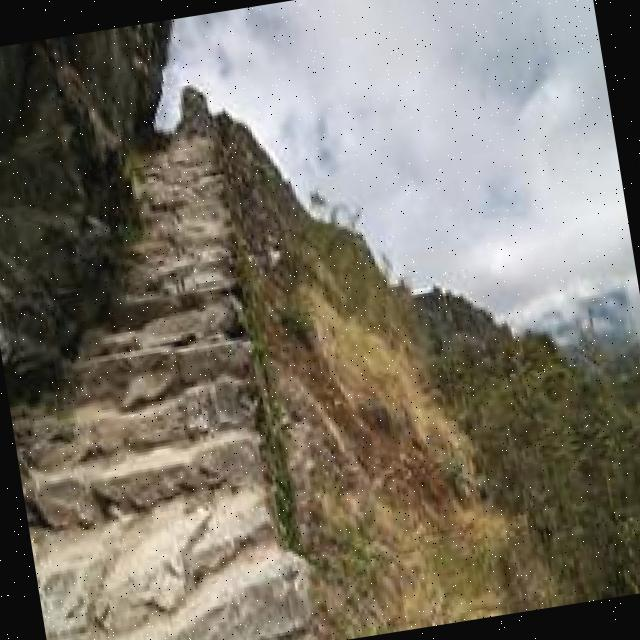stairs: (0, 29, 344, 640)
